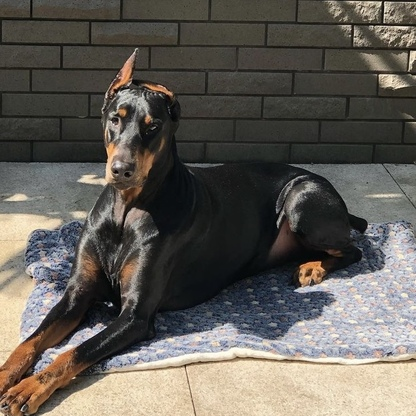doberman: (39, 46, 367, 322)
